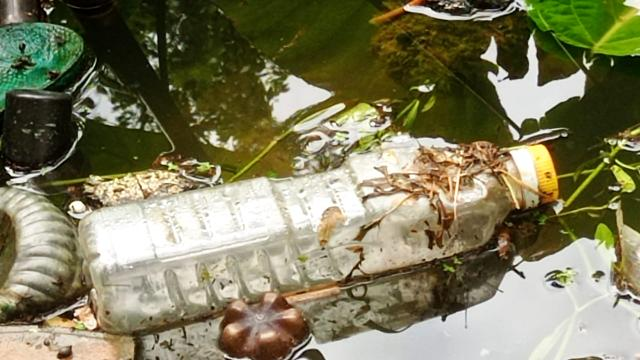bottle: (70, 118, 546, 327), (206, 285, 316, 360), (0, 88, 79, 178)
